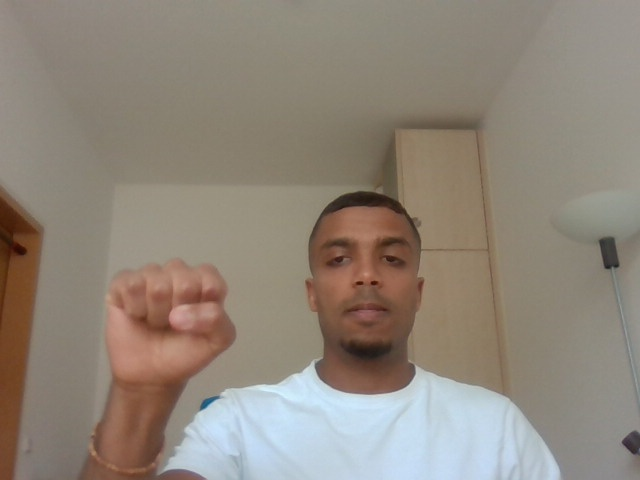maybe: (83, 247, 251, 398)
